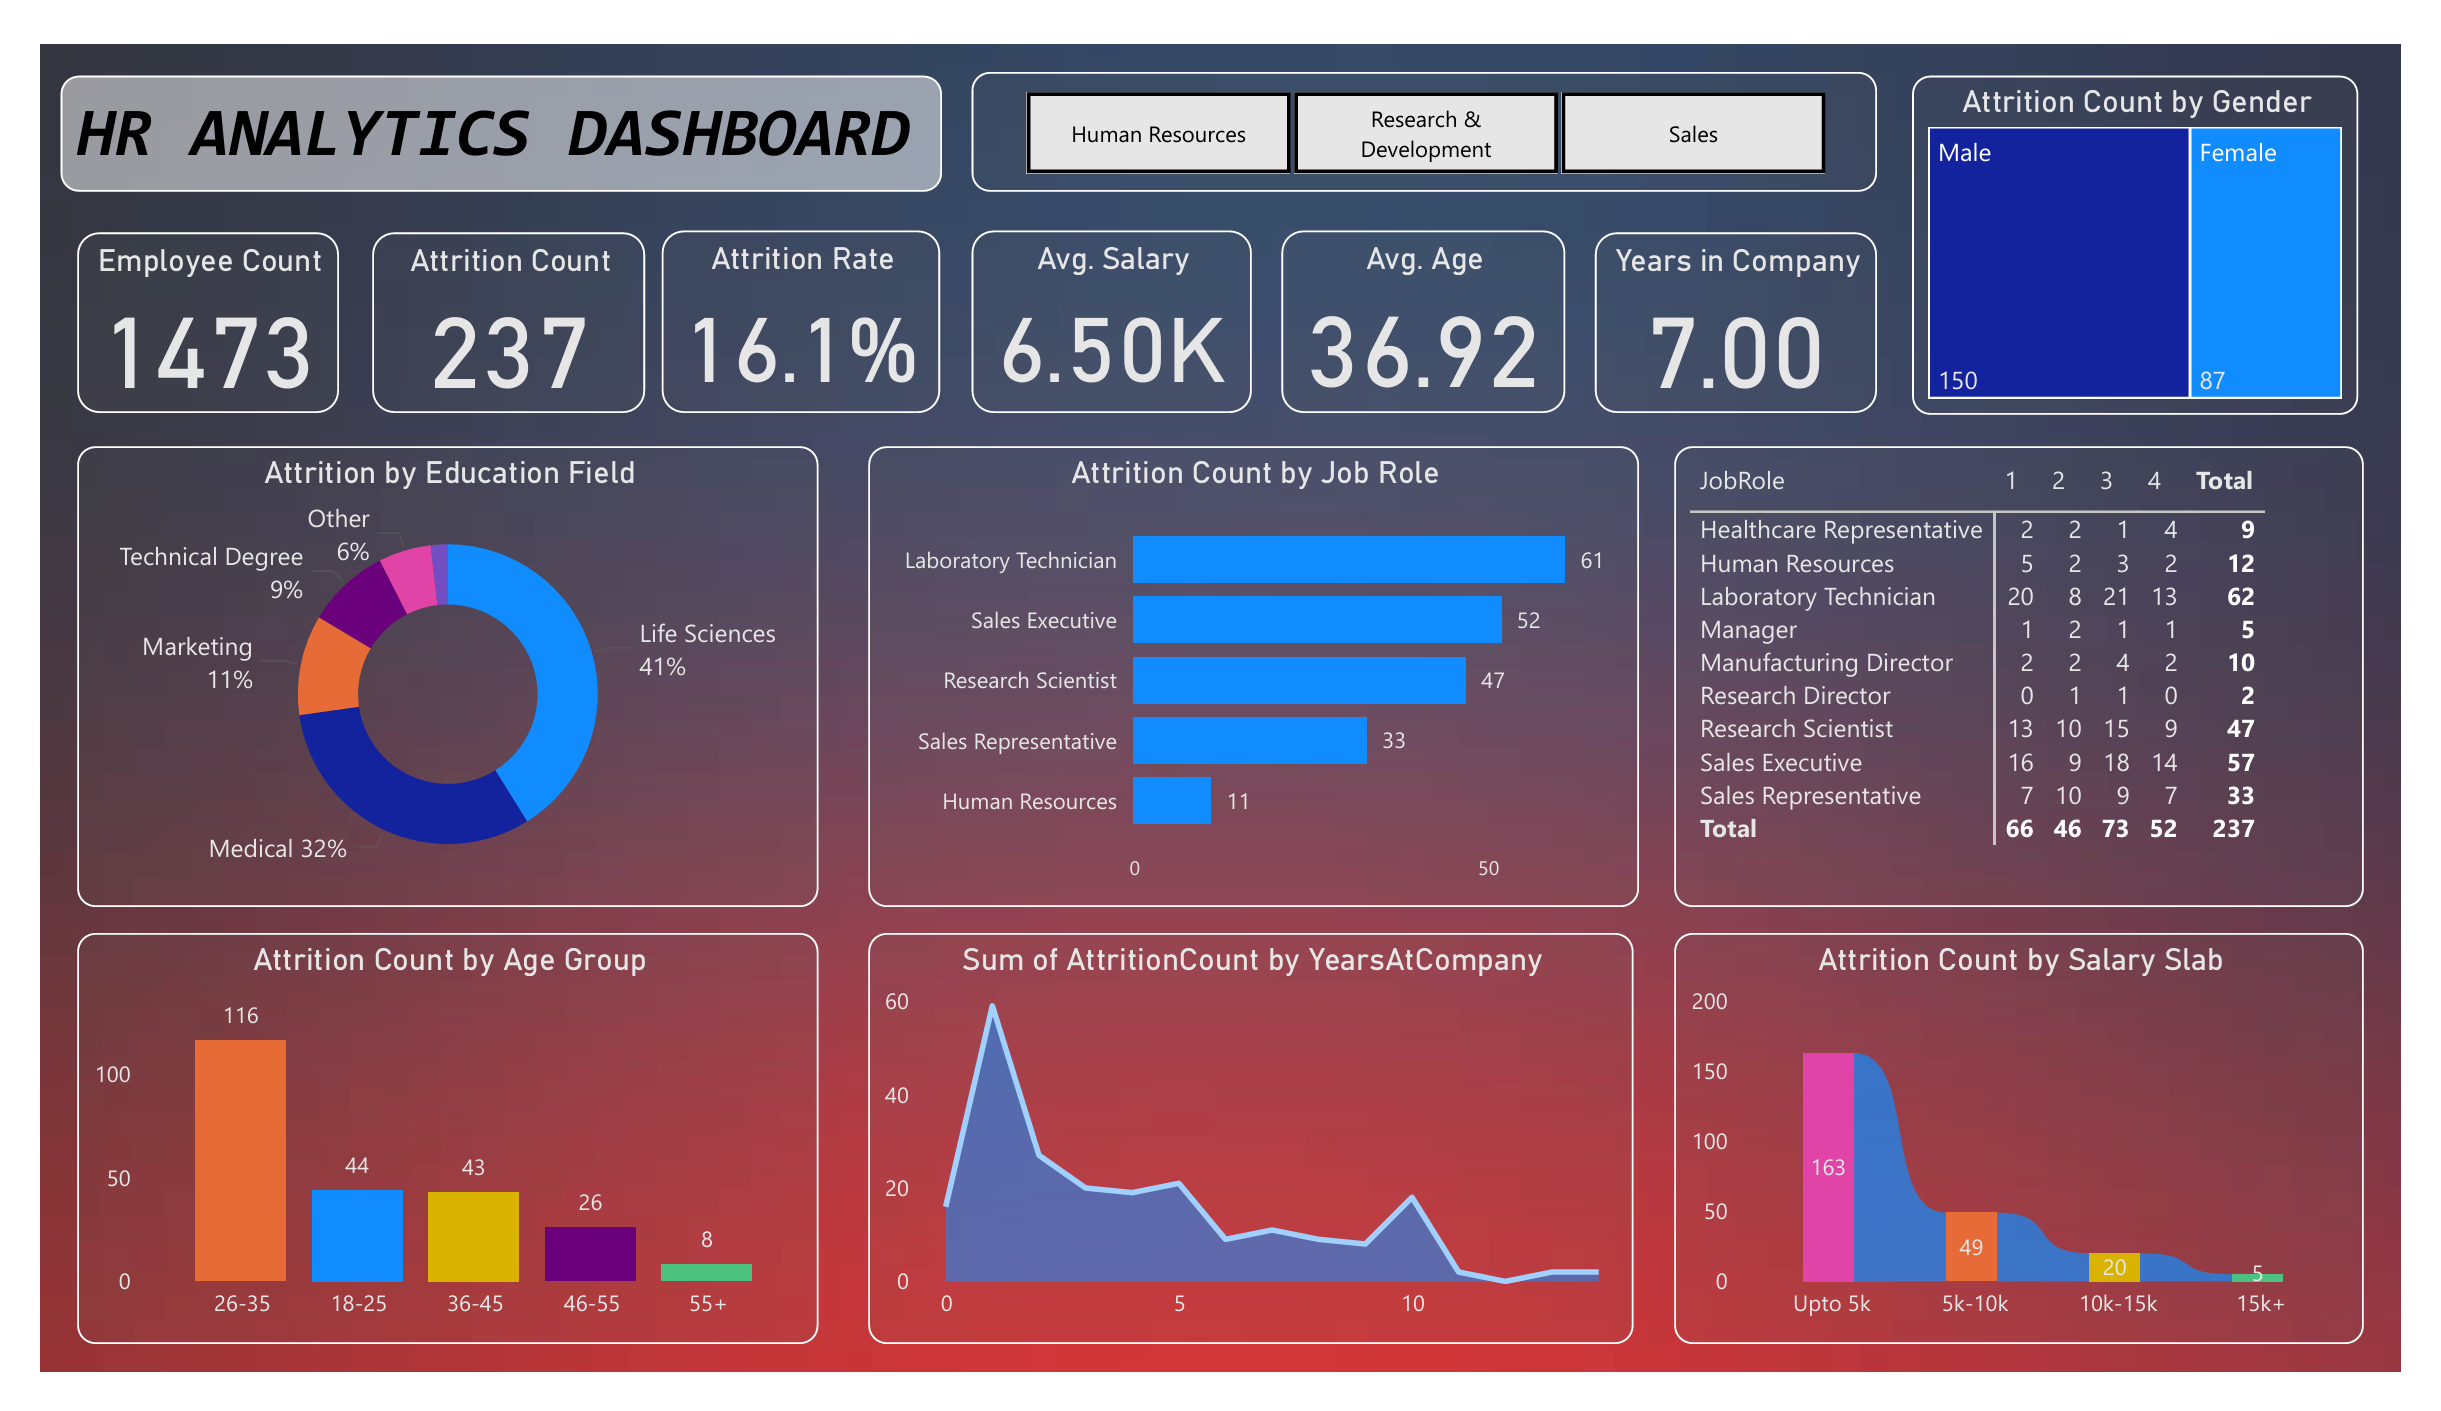

This screenshot's page, from the dashboard's own definition file:
{"tool":"powerbi","page":{"name":"Page 1","canvas":[1280,720],"ordinal":0},"visuals":[{"type":"card","title":"Employee Count","fields":{"Values":["Sum(HR_Analytics.EmployeeCount)"]},"box":[20.4,102,141.5,98.2],"z":0},{"type":"card","title":"Attrition Count","fields":{"Values":["Sum(HR_Analytics.AttritionCount)"]},"box":[179.8,102,147.9,98.2],"z":1000},{"type":"card","title":"Avg. Age","fields":{"Values":["Avg(HR_Analytics.Age)"]},"box":[673.1,100.7,154.3,99.4],"z":2000},{"type":"card","title":"Attrition Rate","fields":{"Values":["HR_Analytics.Attrition Rate"]},"box":[336.6,100.7,151.7,99.4],"z":3000},{"type":"card","title":"Years in Company","fields":{"Values":["Avg(HR_Analytics.YearsAtCompany)"]},"box":[842.7,102,153,98.2],"z":4000},{"type":"card","title":"Avg. Salary","fields":{"Values":["Avg(HR_Analytics.MonthlyIncome)"]},"box":[504.9,100.7,151.7,99.4],"z":5000},{"type":"donutChart","title":"Attrition by Education Field","fields":{"Category":["HR_Analytics.EducationField"],"Y":["CountNonNull(HR_Analytics.Attrition)"]},"box":[20.4,218,401.6,249.9],"z":6000},{"type":"columnChart","title":"Attrition Count by Age Group","fields":{"Category":["HR_Analytics.AgeGroup"],"Y":["Sum(HR_Analytics.AttritionCount)"]},"box":[20.4,481.9,401.6,223.1],"z":7000},{"type":"pivotTable","fields":{"Rows":["HR_Analytics.JobRole"],"Columns":["HR_Analytics.JobSatisfaction"],"Values":["Sum(HR_Analytics.AttritionCount)"]},"box":[886.1,218,373.5,249.9],"z":8000},{"type":"ribbonChart","title":"Attrition Count by Salary Slab","fields":{"Category":["HR_Analytics.SalarySlab"],"Y":["Sum(HR_Analytics.AttritionCount)"]},"box":[886.1,481.9,373.5,223.1],"z":9000},{"type":"areaChart","fields":{"Category":["HR_Analytics.YearsAtCompany"],"Y":["Sum(HR_Analytics.AttritionCount)"]},"box":[448.8,481.9,415.6,223.1],"z":10000},{"type":"clusteredBarChart","title":"Attrition Count by Job Role","fields":{"Category":["HR_Analytics.JobRole"],"Y":["Sum(HR_Analytics.AttritionCount)"]},"box":[448.8,218,418.2,249.9],"z":11000},{"type":"treemap","title":"Attrition Count by Gender","fields":{"Group":["HR_Analytics.Gender"],"Values":["Sum(HR_Analytics.AttritionCount)"]},"box":[1014.8,16.6,242.2,184.9],"z":12000},{"type":"textbox","box":[11.5,16.6,478,63],"z":13000},{"type":"slicer","fields":{"Values":["HR_Analytics.Department"]},"box":[504.9,15.3,490.8,65],"z":14000}]}

Visuals, with their boxes in screenshot pixels (x1, y1, x2, y2), scaled from the page's 1280x720 canvas onto the 2441x1411 screenshot:
"Employee Count" card: (left=39, top=200, right=309, bottom=392)
"Attrition Count" card: (left=343, top=200, right=625, bottom=392)
"Avg. Age" card: (left=1284, top=197, right=1578, bottom=392)
"Attrition Rate" card: (left=642, top=197, right=931, bottom=392)
"Years in Company" card: (left=1607, top=200, right=1899, bottom=392)
"Avg. Salary" card: (left=963, top=197, right=1252, bottom=392)
"Attrition by Education Field" donutChart: (left=39, top=427, right=805, bottom=917)
"Attrition Count by Age Group" columnChart: (left=39, top=944, right=805, bottom=1382)
pivotTable - HR_Analytics.JobRole x HR_Analytics.JobSatisfaction: (left=1690, top=427, right=2402, bottom=917)
"Attrition Count by Salary Slab" ribbonChart: (left=1690, top=944, right=2402, bottom=1382)
areaChart - HR_Analytics.YearsAtCompany x Sum(HR_Analytics.AttritionCount): (left=856, top=944, right=1648, bottom=1382)
"Attrition Count by Job Role" clusteredBarChart: (left=856, top=427, right=1653, bottom=917)
"Attrition Count by Gender" treemap: (left=1935, top=33, right=2397, bottom=395)
textbox: (left=22, top=33, right=933, bottom=156)
slicer - HR_Analytics.Department: (left=963, top=30, right=1899, bottom=157)
